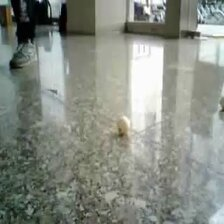w: (117, 116, 131, 132)
